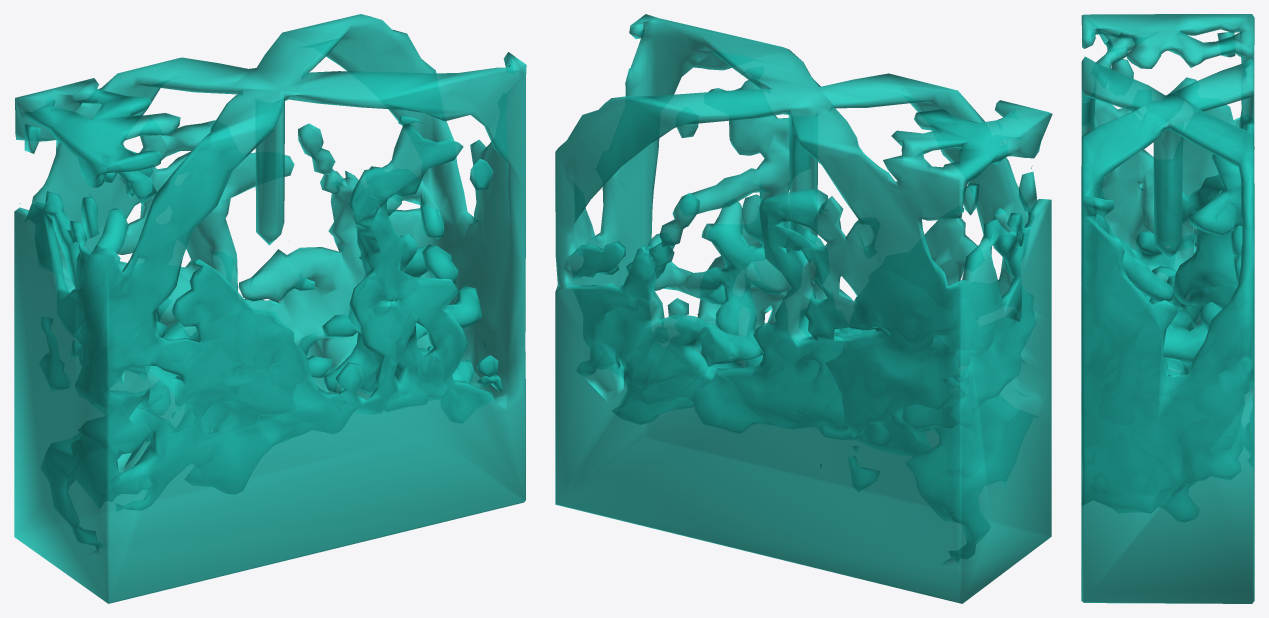
The picture shows the model from 3 angles, left to right: view 1: azimuth 30°, elevation 25°; view 2: azimuth 150°, elevation 25°; view 3: azimuth 270°, elevation 25°; orthographic projection. The views are drawn at different scales.
Parts seen in each view (by area): view 1: Liquid_Domain; view 2: Liquid_Domain; view 3: Liquid_Domain.
Boxes of the visible parts, box(x1,y1,x2,y2) form: Liquid_Domain: box(14, 14, 526, 603); Liquid_Domain: box(555, 14, 1052, 603); Liquid_Domain: box(1081, 14, 1254, 603).
Bounding box in the file's own units: 884 × 884 × 345.
